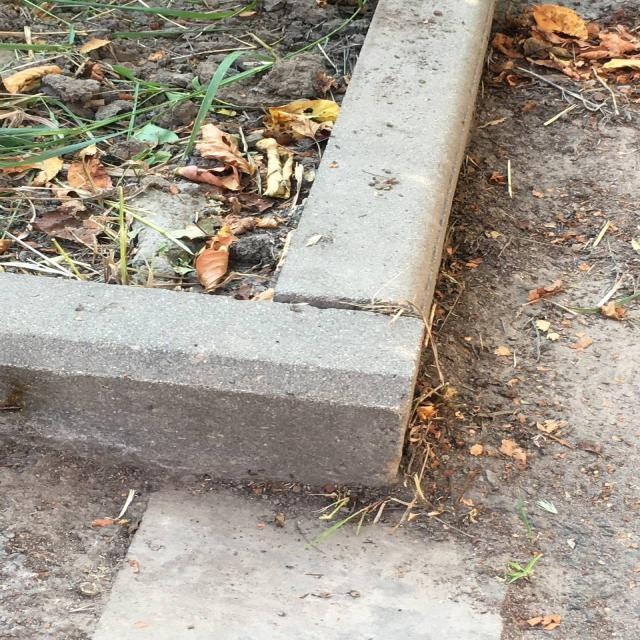bump: (0, 273, 432, 494), (276, 0, 494, 313)
